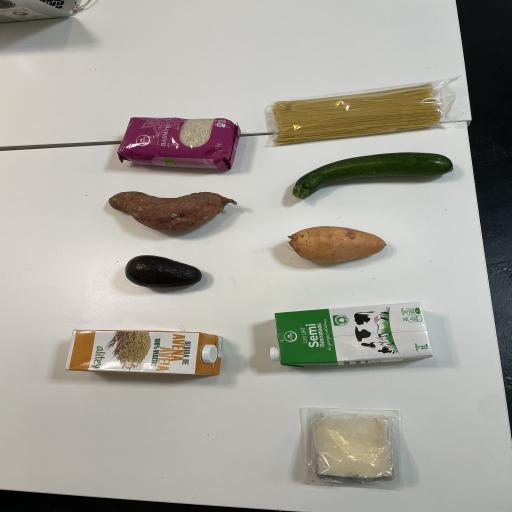avocado: (117, 252, 210, 297)
courgette: (289, 148, 456, 206)
cured_goat_cheese: (306, 406, 400, 489)
milk: (264, 298, 436, 377)
oat_milk: (66, 324, 226, 384)
rice: (116, 112, 248, 174)
spaghetti: (263, 84, 450, 146)
sweet_potato: (105, 187, 235, 240), (283, 219, 391, 272)
